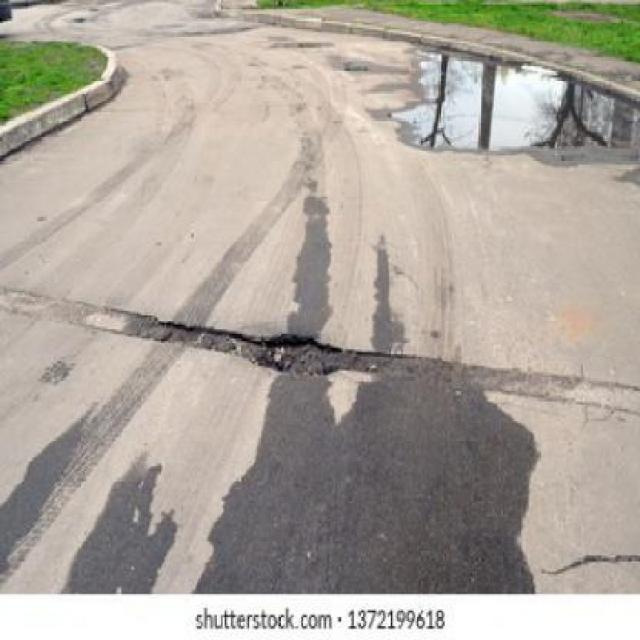Pothole: (252, 332, 334, 379)
